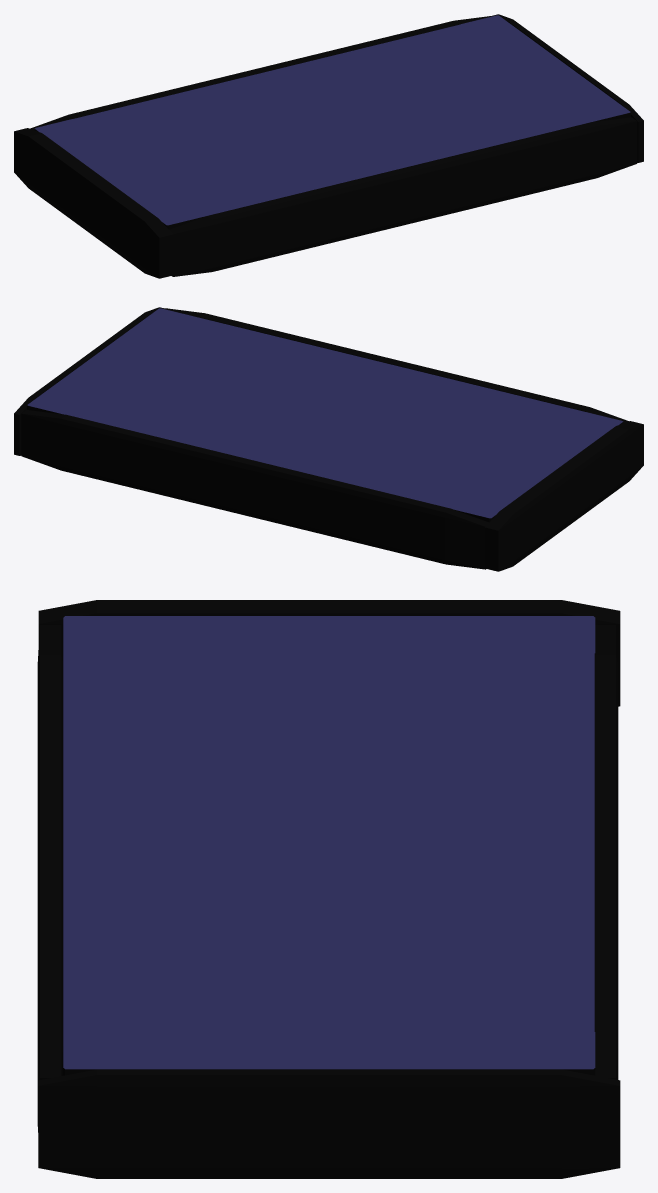
The model's file is stage 1.fbx.
3 views of the same model, one above another, from view 1: azimuth 30°, elevation 25°; view 2: azimuth 150°, elevation 25°; view 3: azimuth 270°, elevation 25° (orthographic). The views are drawn at different scales.
Parts seen in each view (by area): view 1: 天井当たり判定, Cube.001, Cube.004, Cube.002, Cube.003; view 2: 天井当たり判定, Cube.002, Cube.004, Cube.001, Cube.003; view 3: 天井当たり判定, Cube.003, Cube.001, Cube.002, Cube.004.
Boxes of the visible parts, left/top/right/bottom form: 天井当たり判定: left=34, top=15, right=630, bottom=229; Cube.001: left=169, top=117, right=637, bottom=276; Cube.004: left=14, top=128, right=172, bottom=278; Cube.002: left=30, top=15, right=493, bottom=130; Cube.003: left=493, top=14, right=643, bottom=162; 天井当たり判定: left=27, top=308, right=623, bottom=522; Cube.002: left=21, top=409, right=488, bottom=569; Cube.004: left=485, top=421, right=643, bottom=571; Cube.001: left=164, top=308, right=628, bottom=423; Cube.003: left=14, top=307, right=164, bottom=455; 天井当たり判定: left=63, top=616, right=595, bottom=1075; Cube.003: left=38, top=1069, right=620, bottom=1178; Cube.001: left=37, top=625, right=63, bottom=1132; Cube.002: left=594, top=625, right=618, bottom=1079; Cube.004: left=38, top=600, right=620, bottom=706.
Size of the model in its own units: 4363 by 455 by 2264.
